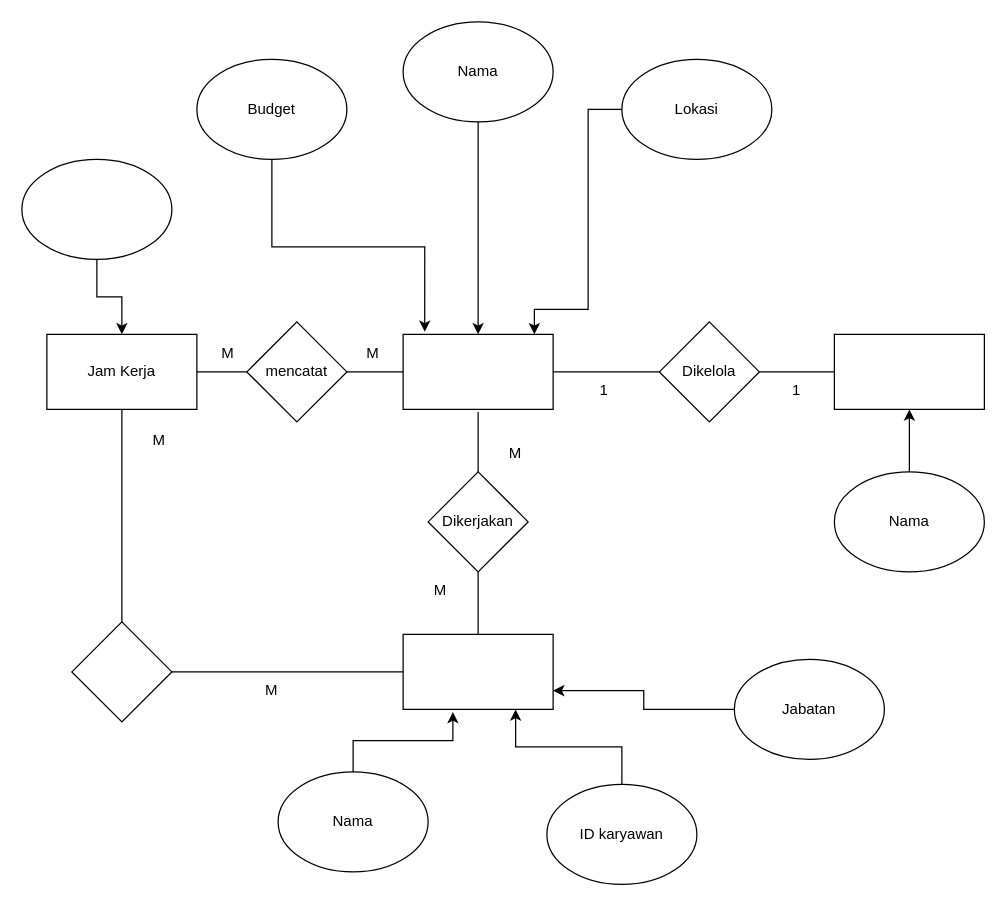
This 1006x906 diagram has some shape labels left out. The box of each missing label's shape, as (x1, y1, x2, y2) in pixels:
durasi kerja: (21, 158, 172, 259)
Karyawan: (402, 633, 553, 709)
memiliki: (71, 621, 172, 722)
Proyek: (402, 333, 553, 409)
Proyek Manager: (833, 333, 984, 409)
